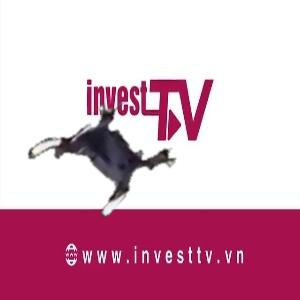drone: (39, 92, 170, 223)
